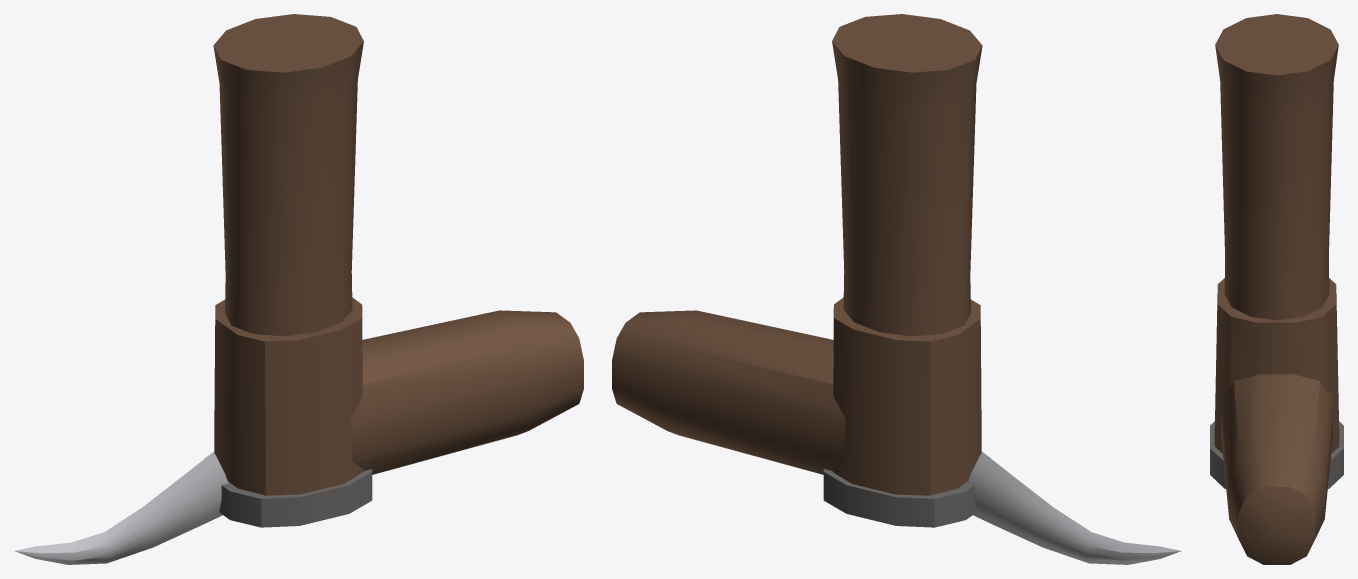
The model's file is blade-boot.glb.
The picture shows the model from 3 angles, left to right: view 1: azimuth 30°, elevation 25°; view 2: azimuth 150°, elevation 25°; view 3: azimuth 270°, elevation 25°; orthographic projection. The views are drawn at different scales.
Parts seen in each view (by area): view 1: blade-boot; view 2: blade-boot; view 3: blade-boot.
Part boxes in pixels (<box>): blade-boot: <box>15,14,583,564</box>; blade-boot: <box>612,14,1180,564</box>; blade-boot: <box>1210,14,1343,564</box>.
Bounding box in the file's own units: 0.62 × 0.4967 × 0.1362.
